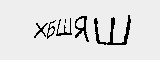Б: (46, 19, 55, 39)
Х: (34, 22, 48, 39)
Ш: (93, 13, 136, 46), (56, 16, 73, 36)
Я: (73, 15, 88, 41)
